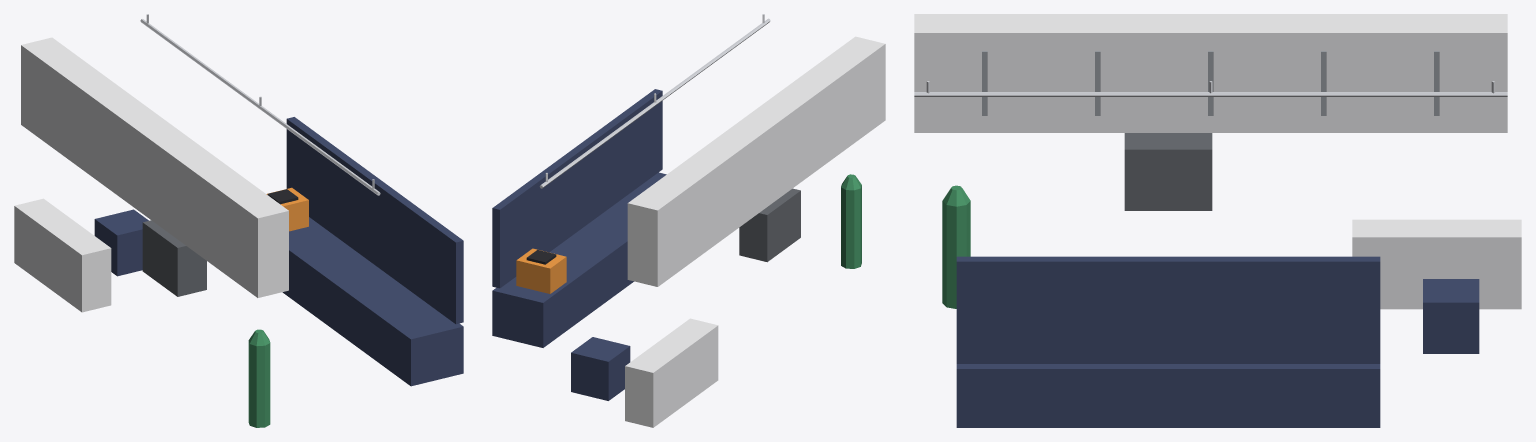
File: AmbulanceBench.obj
The picture shows the model from 3 angles, left to right: view 1: azimuth 30°, elevation 25°; view 2: azimuth 150°, elevation 25°; view 3: azimuth 270°, elevation 25°; orthographic projection. The views are drawn at different scales.
Visible parts, largest first — view 1: AmbulanceBench; view 2: AmbulanceBench; view 3: AmbulanceBench.
Part boxes in pixels (x1,y1,x2,y2): AmbulanceBench: [14, 14, 463, 427]; AmbulanceBench: [492, 14, 885, 427]; AmbulanceBench: [914, 14, 1521, 427].
Bounding box in the file's own units: 2.29 × 2.22 × 4.3.
1 material, 1 textured.
